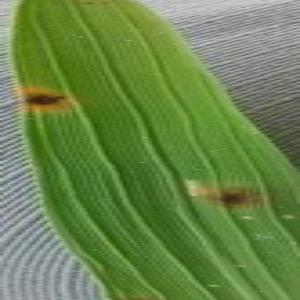Brown_Spot: (18, 84, 72, 117), (207, 182, 266, 212), (76, 1, 100, 6), (99, 1, 112, 8)
